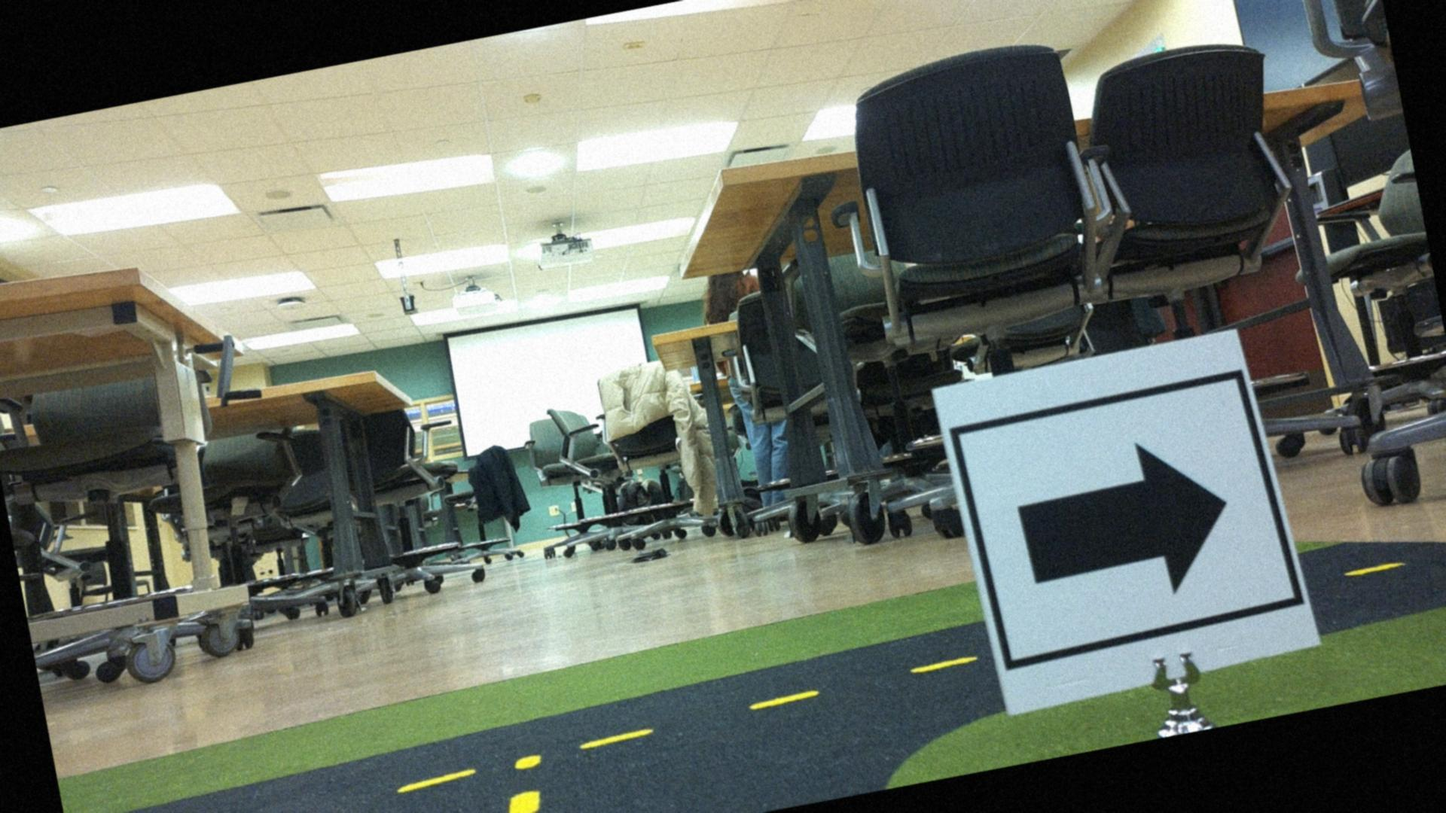turnleft: (942, 333, 1298, 703)
yellowline: (191, 653, 977, 812)
